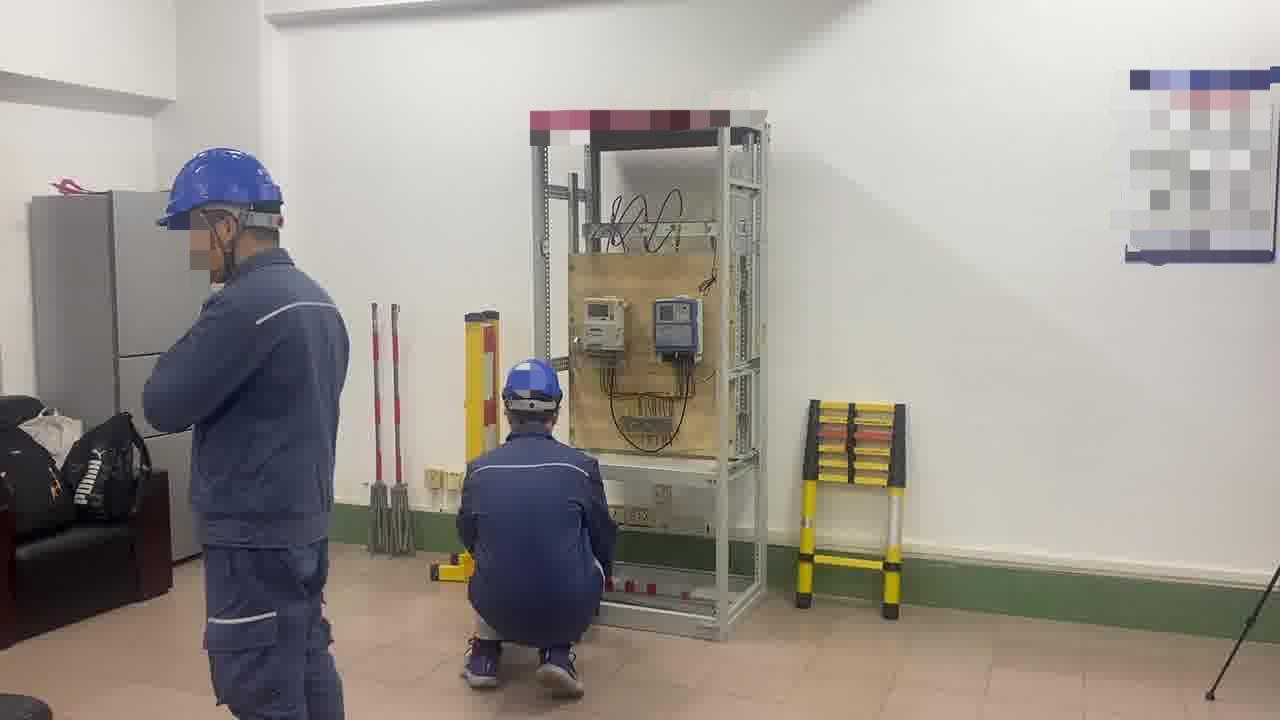halt: (159, 148, 290, 282), (504, 363, 567, 430)
inear: (203, 208, 251, 274)
